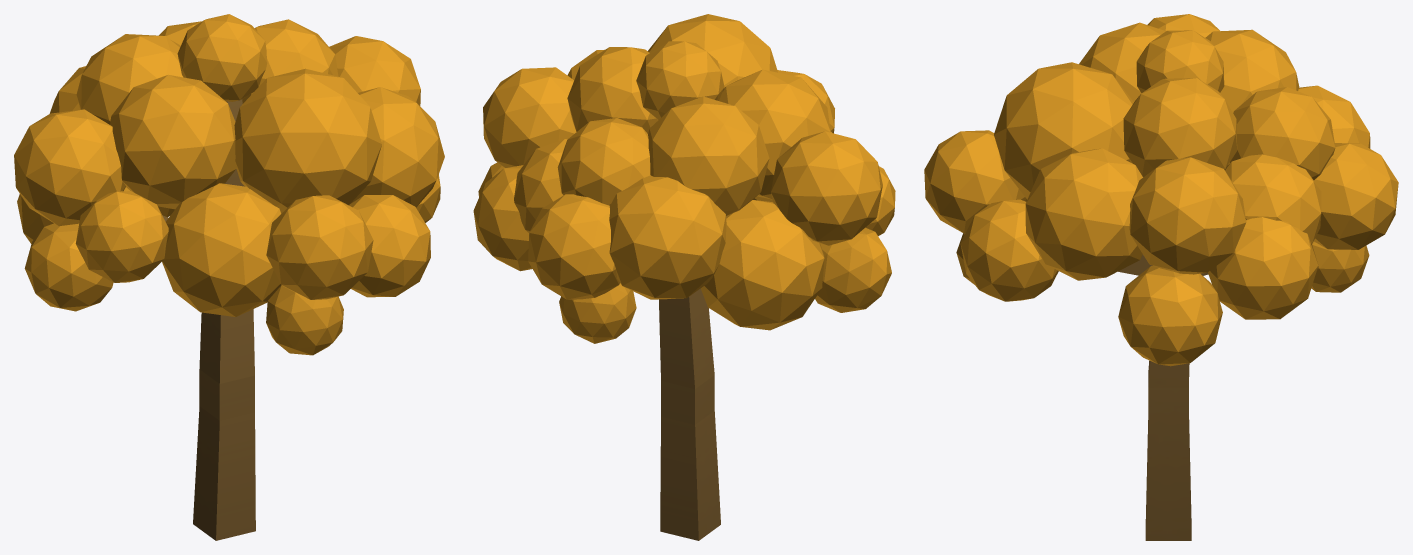
Rendered from oak_orange.glb.
The picture shows the model from 3 angles, left to right: view 1: azimuth 30°, elevation 25°; view 2: azimuth 150°, elevation 25°; view 3: azimuth 270°, elevation 25°; orthographic projection. The views are drawn at different scales.
Parts seen in each view (by area): view 1: Icosphere.057, Cube.007; view 2: Icosphere.057, Cube.007; view 3: Icosphere.057, Cube.007.
Boxes of the visible parts, bbox=[...] form: Icosphere.057: bbox=[14, 14, 444, 355]; Cube.007: bbox=[162, 99, 255, 540]; Icosphere.057: bbox=[473, 14, 895, 343]; Cube.007: bbox=[659, 288, 720, 540]; Icosphere.057: bbox=[924, 14, 1398, 366]; Cube.007: bbox=[1118, 254, 1208, 540].
Size of the model in its own units: 23.21 by 27.33 by 23.48.
2 materials, 2 textured.
